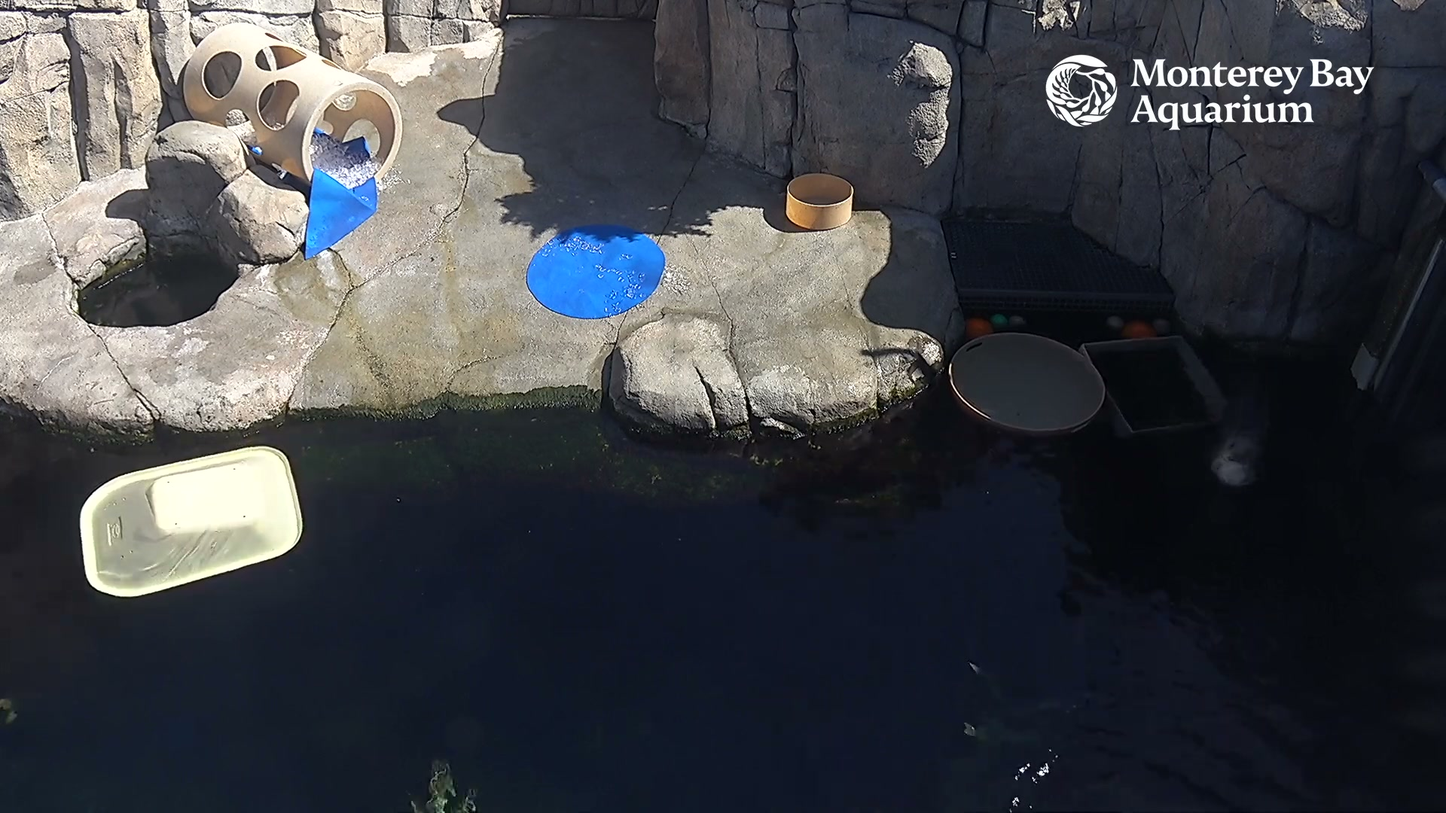Southern Sea Otter: (1216, 313, 1298, 534)
